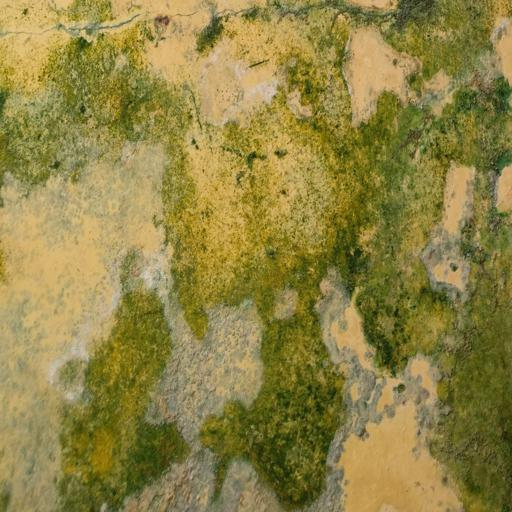algae: (104, 56, 436, 499)
